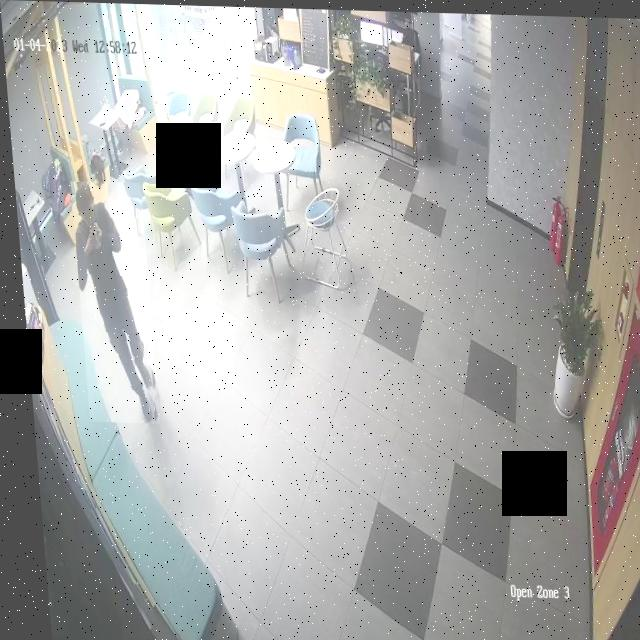person: (68, 180, 153, 423)
